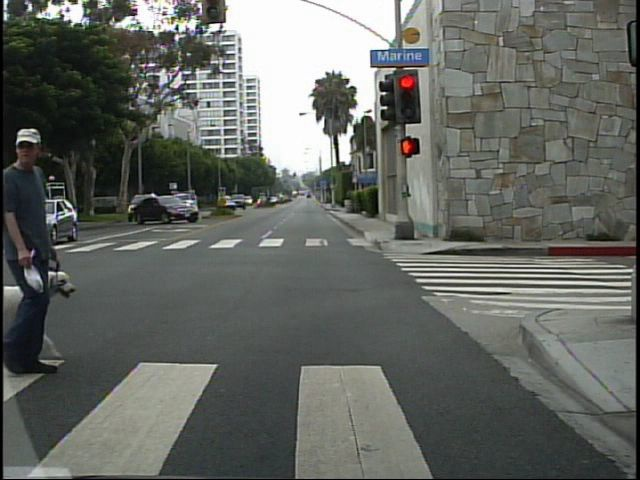person: (2, 113, 73, 381)
